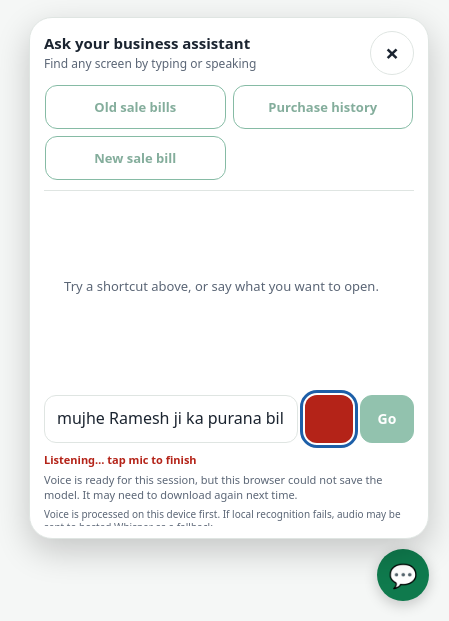
Test case: starts microphone capture on the first press-and-hold and auto-submits the final transcript
The image size is (449, 621).
Earlier steps of the test are not shown.
Expected: the text "Listening… tap mic to finish" is shown, [44,452,197,467]
Expected: the button "Go" is disabled, [360,395,414,443]
Click the button named "Stop voice command" at coordinates (329, 419), box [305,395,353,443]
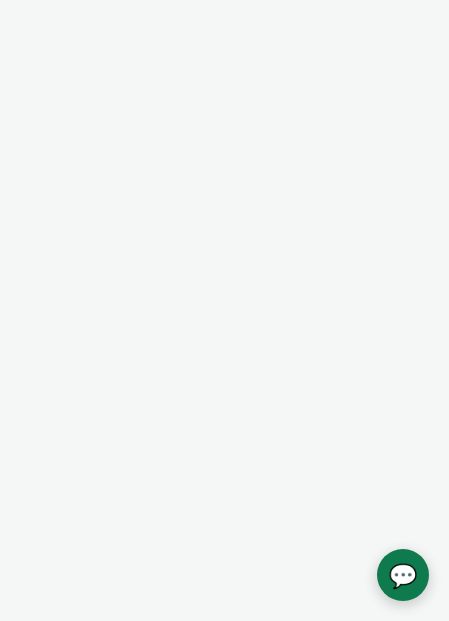
Now the button named "Open assistant" is shown, box [377,549,429,601]
Now the text labelled "Ask your business assistant" is gone
